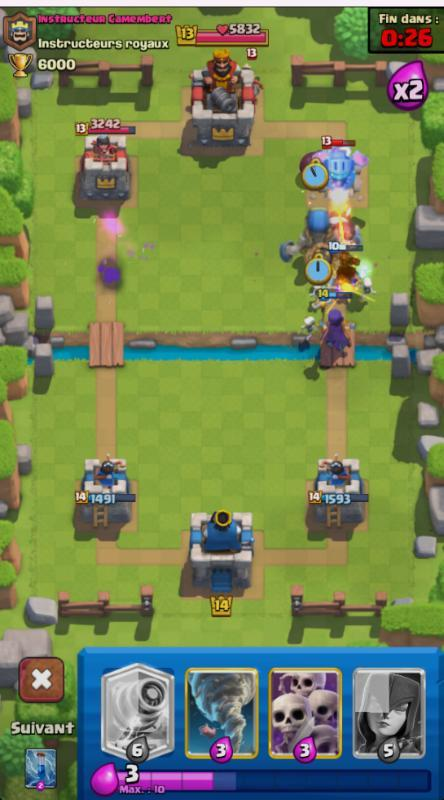enemy_inferno_dragon: (322, 138, 366, 199)
player_giant_skeleton: (279, 200, 340, 283)
player_skeletons: (347, 260, 379, 297), (296, 310, 323, 338)
player_witch: (317, 293, 356, 360)
